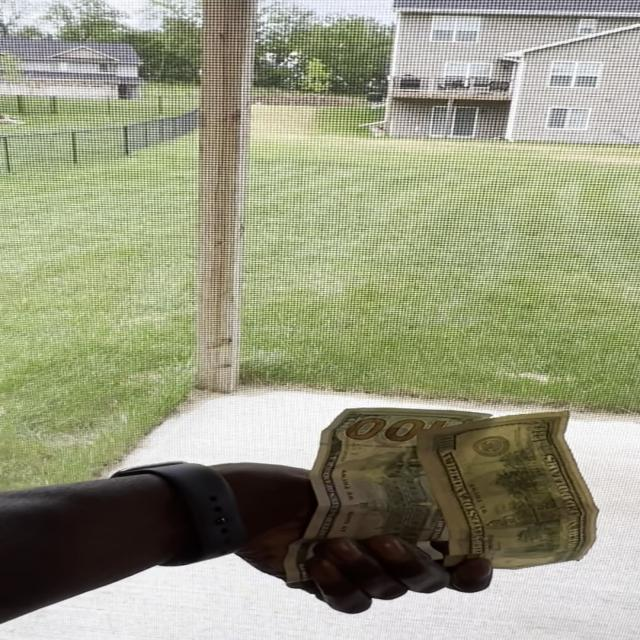hundred: (289, 407, 489, 582), (418, 408, 600, 570)
